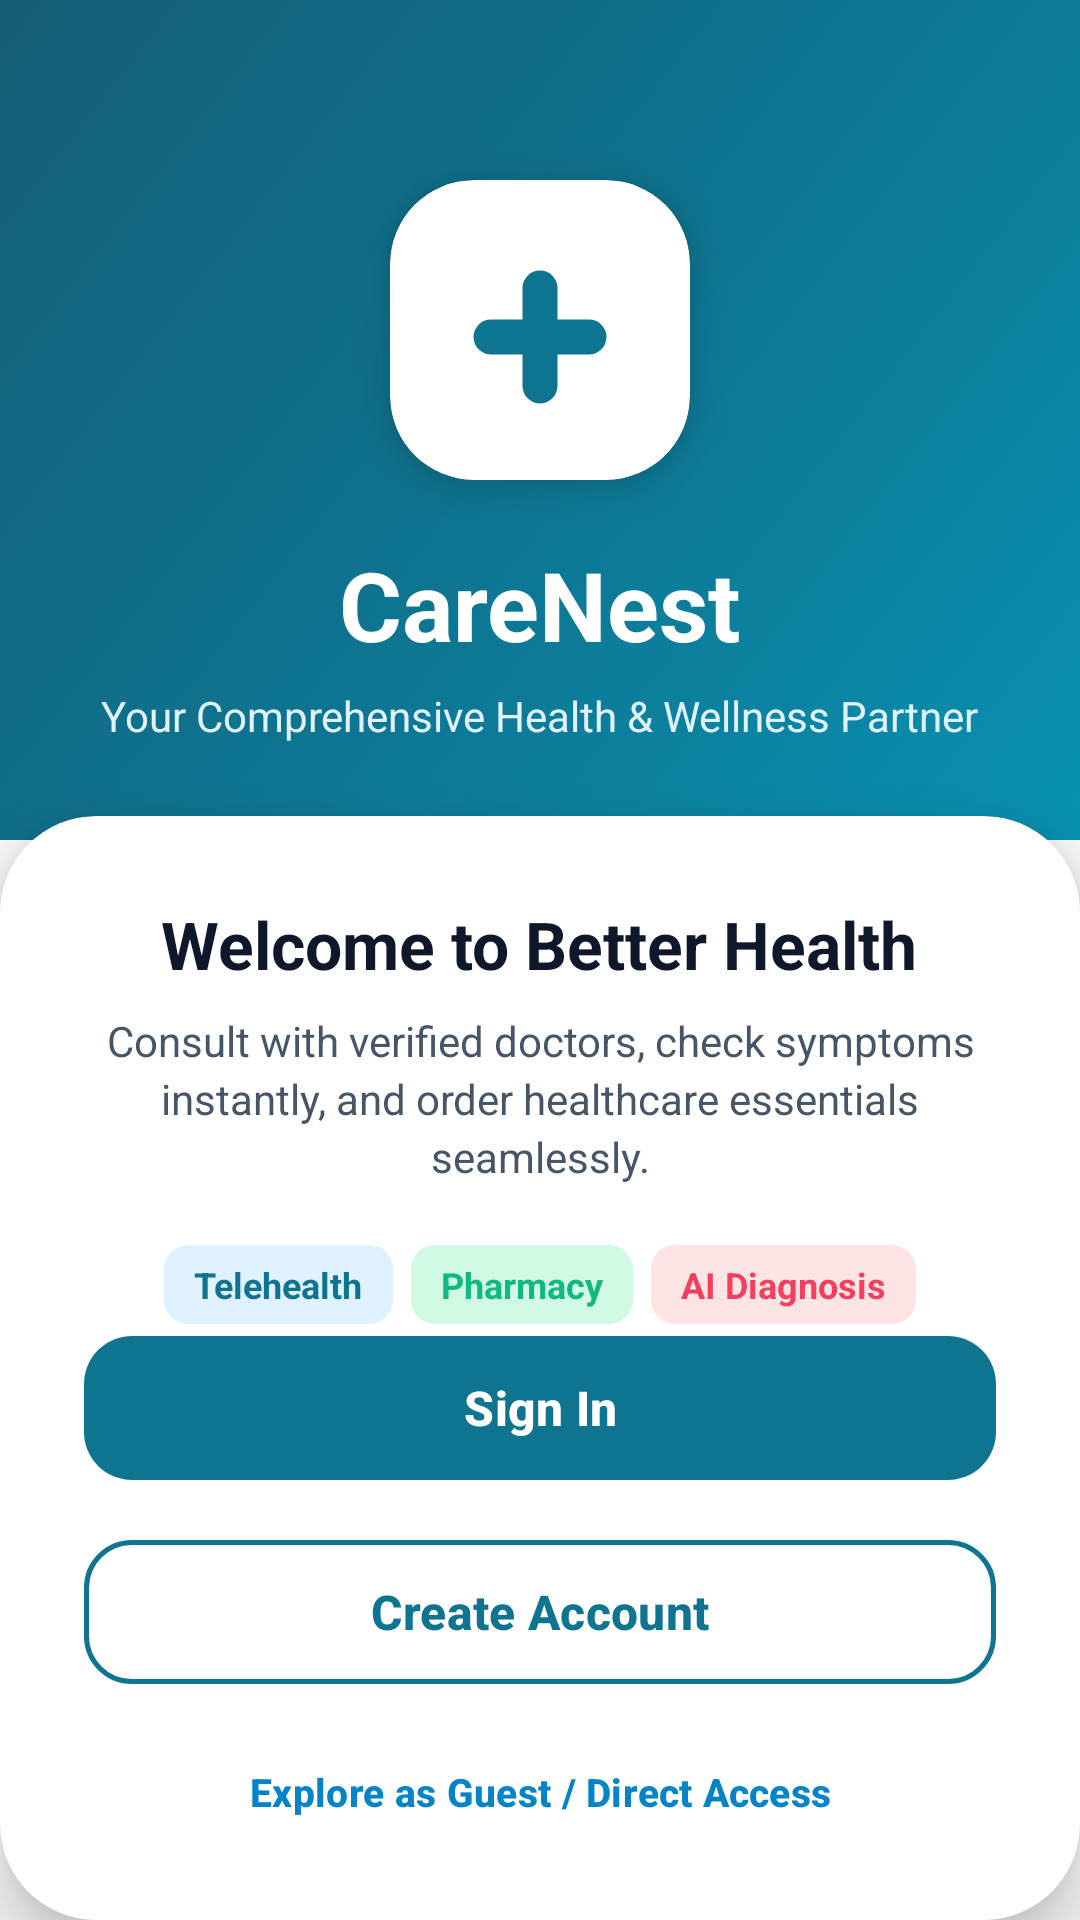

Icons on this 1080w x 1920h Android screen, each with the point to tap as (x=x, y=y):
medical cross: (x=540, y=337)
